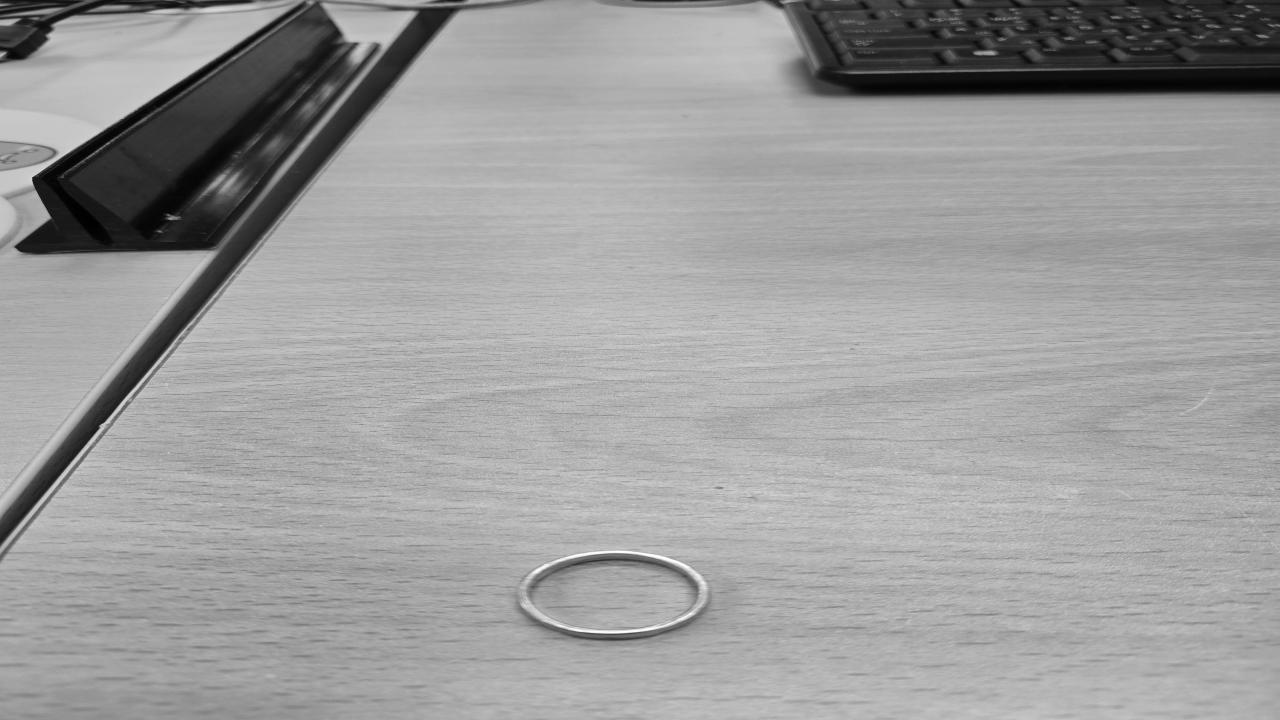ring: (514, 550, 712, 640)
